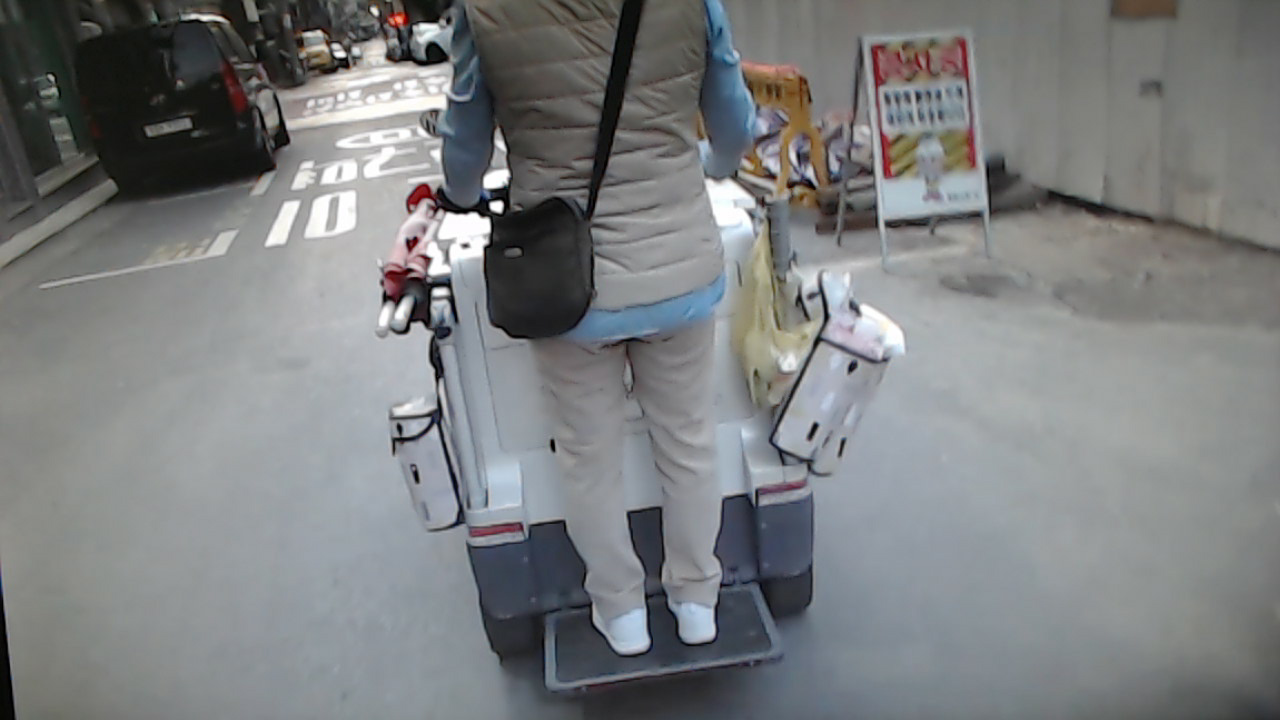Yakurut: (423, 7, 782, 667)
